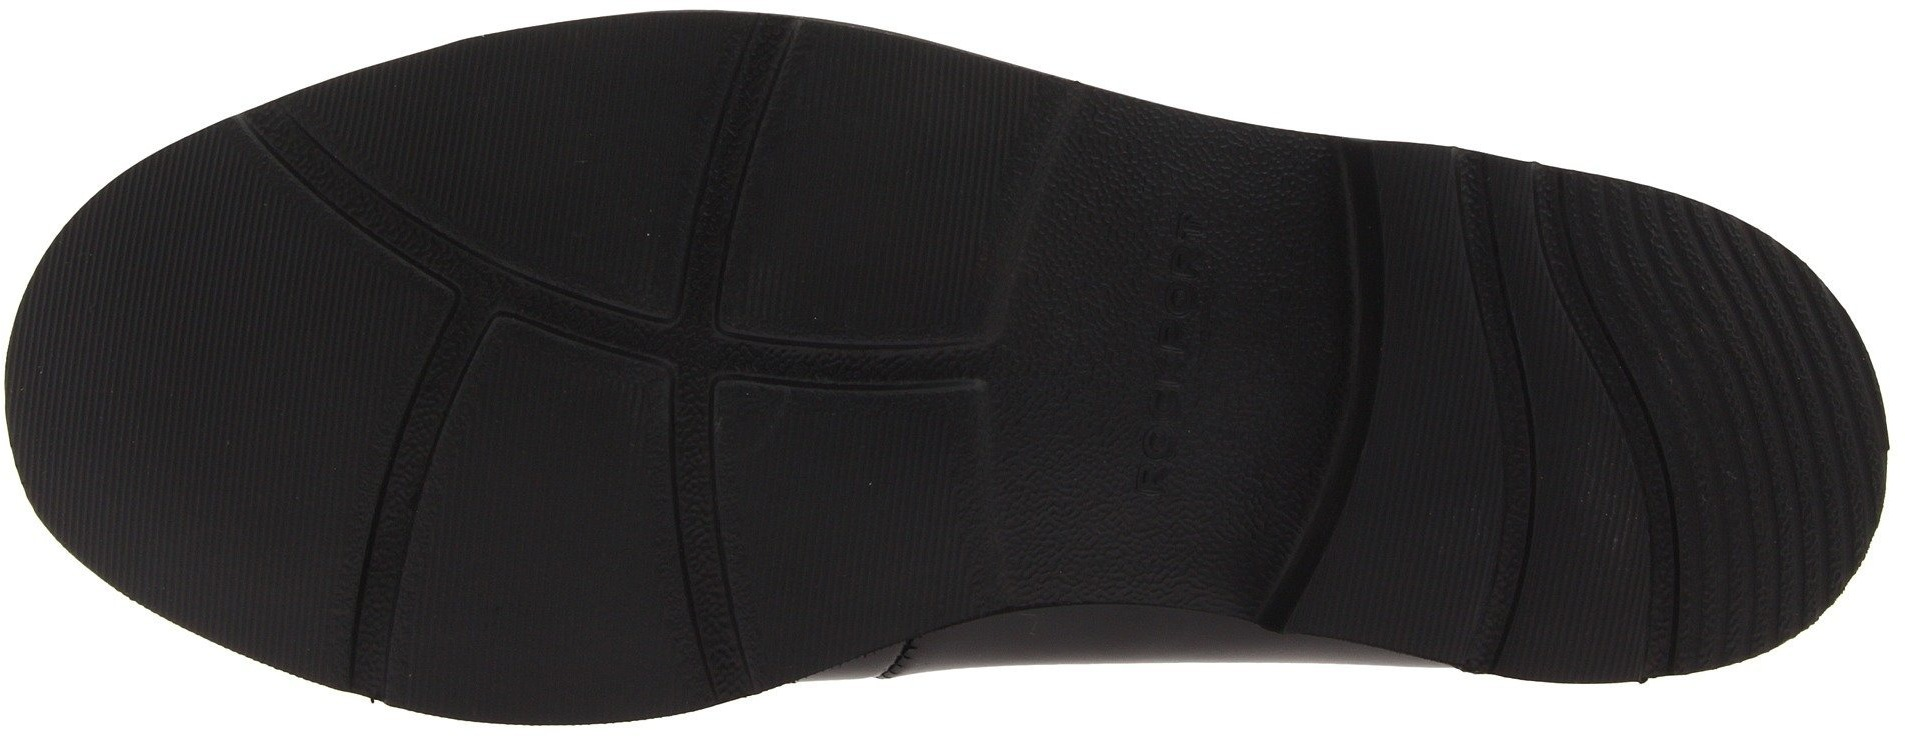other: (53, 257, 371, 539), (733, 395, 970, 631), (440, 438, 666, 667), (782, 83, 1010, 300), (464, 59, 675, 271), (1652, 268, 1845, 488), (1358, 472, 1483, 616), (1016, 474, 1127, 593), (1390, 351, 1491, 463), (1533, 574, 1630, 681)
text: (1132, 217, 1226, 321), (1106, 390, 1209, 482)
